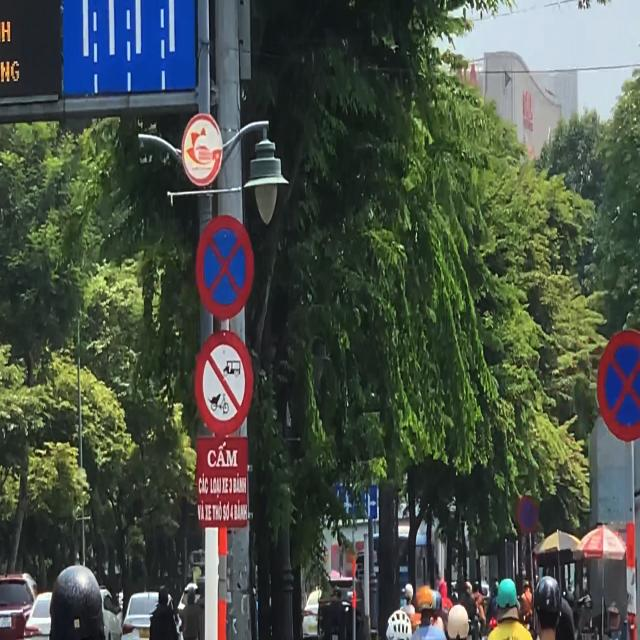Cam con lai: (194, 328, 255, 437)
Cam dung va do: (196, 215, 255, 319), (596, 329, 640, 441), (518, 495, 539, 533)
